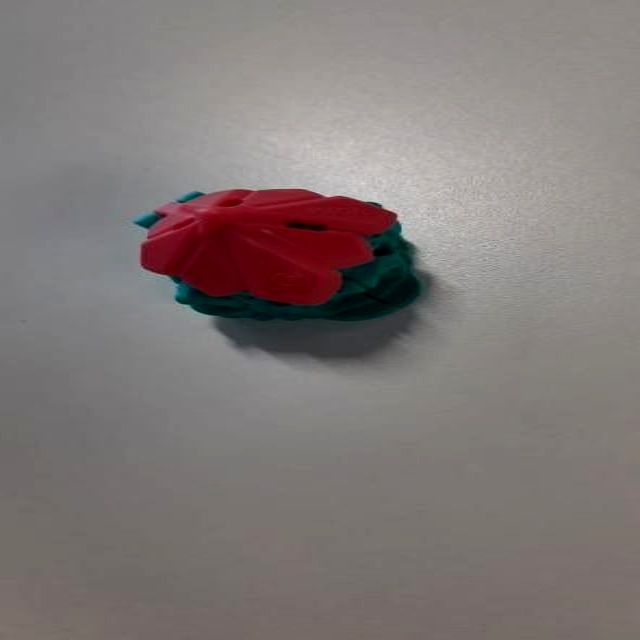House: (136, 179, 437, 329)
